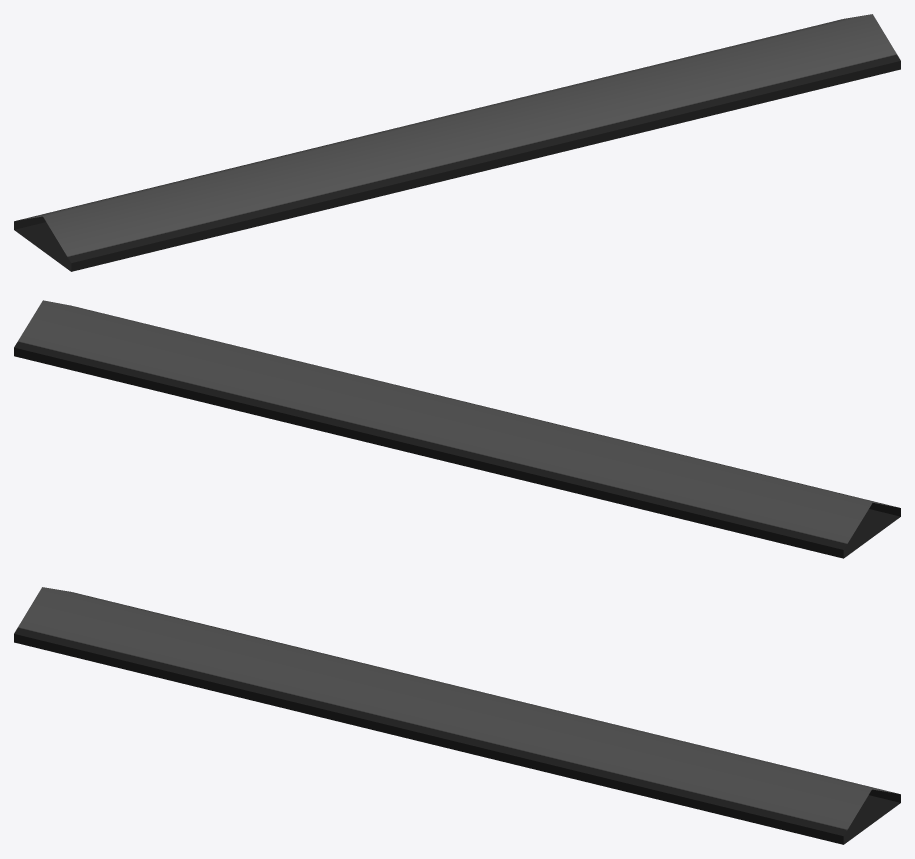
Rendered from RailingTLOD.fbx.
The picture shows the model from 3 angles, top to bottom: view 1: azimuth 30°, elevation 25°; view 2: azimuth 150°, elevation 25°; view 3: azimuth 330°, elevation 25°; orthographic projection.
Parts seen in each view (by area): view 1: Railing Top_LOD1; view 2: Railing Top_LOD1; view 3: Railing Top_LOD1.
Part boxes in pixels (<box>): Railing Top_LOD1: <box>14,14,900,271</box>; Railing Top_LOD1: <box>14,300,900,558</box>; Railing Top_LOD1: <box>14,587,900,844</box>.
Size of the model in its own units: 200 by 8 by 23.93.
